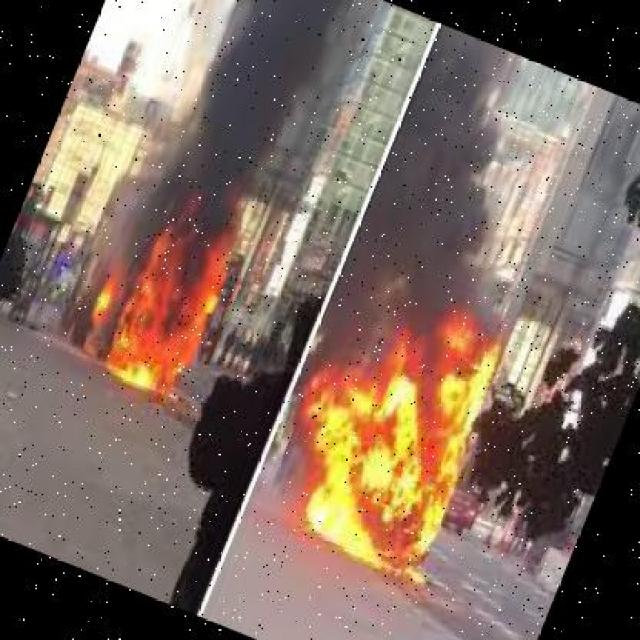fire: (254, 270, 535, 588), (45, 170, 274, 428)
